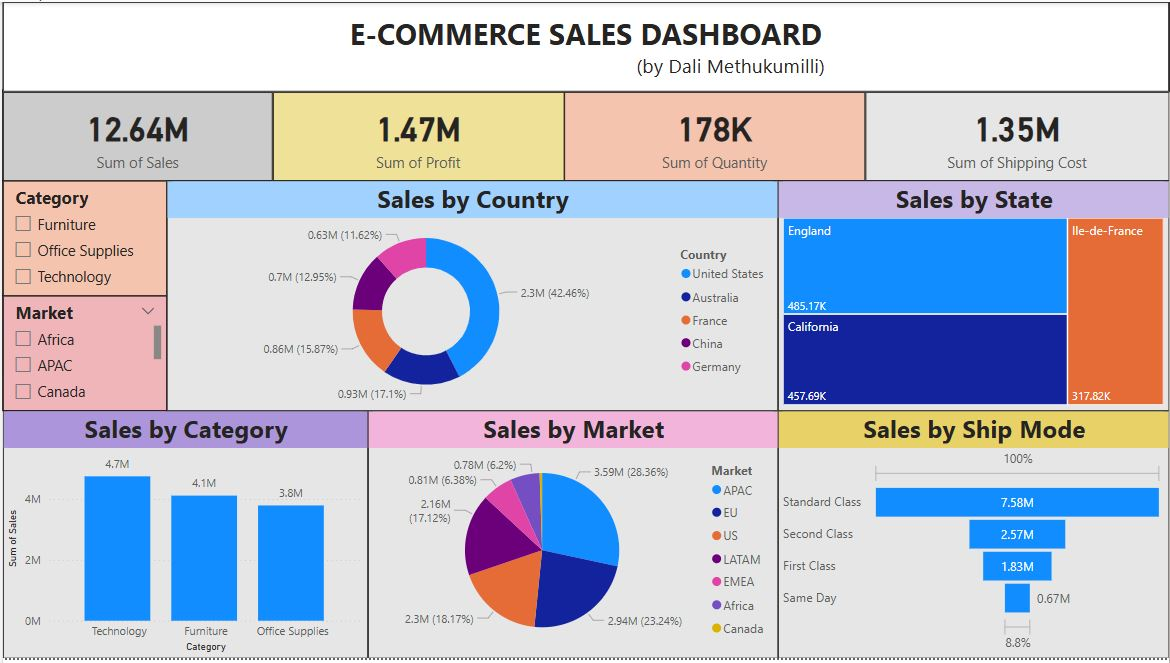

The page's visual inventory and layout, read from the dashboard file:
{"tool":"powerbi","page":{"name":"Page 1","canvas":[1280,720],"ordinal":0},"visuals":[{"type":"columnChart","title":"Sales by Category","fields":{"Category":["Orders.Category"],"Y":["Sum(Orders.Sales)"]},"box":[0,448.7,400.7,271.7],"z":0},{"type":"pieChart","title":"Sales by Market","fields":{"Y":["Sum(Orders.Sales)"],"Category":["Orders.Market"]},"box":[400.7,448.7,450.1,271.7],"z":1000},{"type":"funnel","title":"Sales by Ship Mode","fields":{"Category":["Orders.Ship Mode"],"Y":["Sum(Orders.Sales)"]},"box":[850.8,448.7,429.5,271.7],"z":2000},{"type":"donutChart","title":"Sales by Country","fields":{"Category":["Orders.Country"],"Y":["Sum(Orders.Sales)"]},"box":[179.8,196.2,671,252.5],"z":3000},{"type":"treemap","title":"Sales by State","fields":{"Group":["Orders.State"],"Values":["Sum(Orders.Sales)"]},"box":[850.8,196.2,429.5,252.5],"z":4000},{"type":"card","fields":{"Values":["Sum(Orders.Sales)"]},"box":[0,98.8,296.4,97.4],"z":5000},{"type":"card","fields":{"Values":["Sum(Orders.Profit)"]},"box":[296.4,98.8,319.7,97.4],"z":6000},{"type":"card","fields":{"Values":["Sum(Orders.Quantity)"]},"box":[616.1,98.8,330.7,97.4],"z":7000},{"type":"card","fields":{"Values":["Sum(Orders.Shipping Cost)"]},"box":[946.8,98.8,333.4,97.4],"z":8000},{"type":"slicer","fields":{"Values":["Orders.Category"]},"box":[0,196.2,179.8,126.2],"z":9000},{"type":"slicer","fields":{"Values":["Orders.Market"]},"box":[0,322.5,179.8,126.2],"z":10000},{"type":"textbox","box":[0,0,1280.3,98.8],"z":11000}]}

Visuals, with their boxes in screenshot pixels (x1, y1, x2, y2), scaled from the page's 1280x720 canvas onto the 1170x663 screenshot:
"Sales by Category" columnChart: 0,413,366,662
"Sales by Market" pieChart: 366,413,778,662
"Sales by Ship Mode" funnel: 778,413,1169,662
"Sales by Country" donutChart: 164,181,778,413
"Sales by State" treemap: 778,181,1169,413
card - Sum(Orders.Sales): 0,91,271,181
card - Sum(Orders.Profit): 271,91,563,181
card - Sum(Orders.Quantity): 563,91,865,181
card - Sum(Orders.Shipping Cost): 865,91,1169,181
slicer - Orders.Category: 0,181,164,297
slicer - Orders.Market: 0,297,164,413
textbox: 0,0,1169,91
